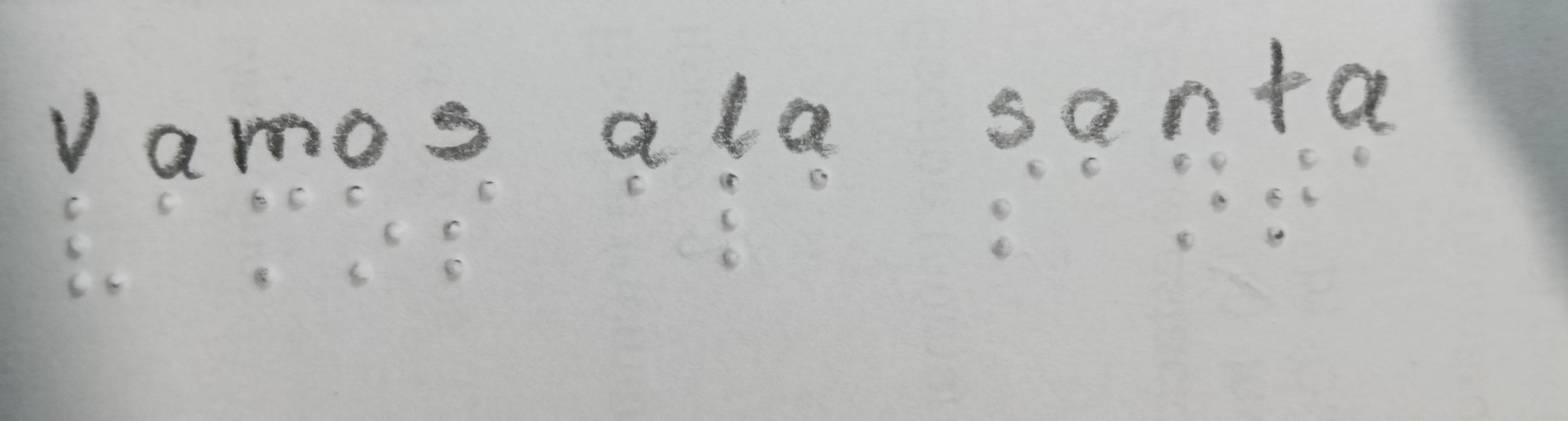a: (600, 167, 682, 221), (1335, 140, 1409, 192), (778, 161, 859, 206), (136, 184, 196, 230), (1061, 152, 1124, 188)
l: (699, 157, 771, 284)
m: (219, 186, 325, 300)
n: (1155, 152, 1245, 261)
o: (342, 179, 407, 302)
s: (947, 150, 1061, 275), (415, 171, 527, 286)
t: (1245, 144, 1332, 263)
v: (46, 186, 135, 315)
